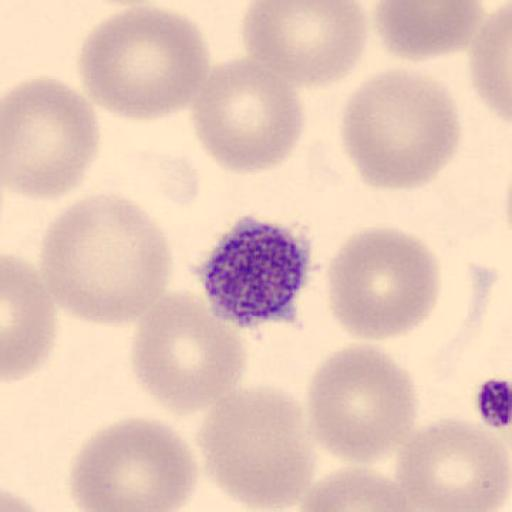Platelet: (195, 212, 316, 331)
RBC: (37, 190, 173, 326), (194, 382, 318, 512), (78, 4, 211, 124), (338, 66, 464, 191), (127, 290, 250, 417), (304, 341, 420, 466), (324, 224, 442, 343), (188, 56, 306, 174), (65, 414, 200, 512), (1, 73, 101, 202), (391, 414, 512, 511), (240, 0, 369, 87), (2, 254, 58, 384), (373, 0, 485, 62), (294, 465, 416, 512), (468, 1, 512, 123)
